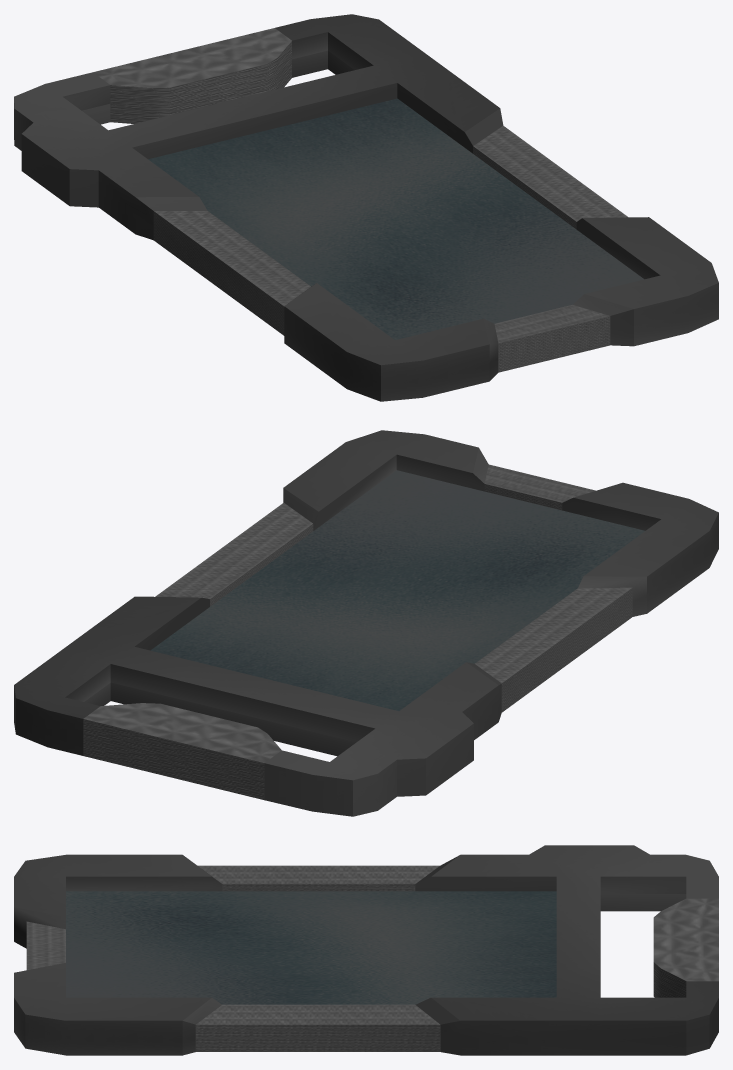
Rendered from Tablet.fbx.
The picture shows the model from 3 angles, top to bottom: view 1: azimuth 30°, elevation 25°; view 2: azimuth 150°, elevation 25°; view 3: azimuth 270°, elevation 25°; orthographic projection. The views are drawn at different scales.
Parts seen in each view (by area): view 1: Cube; view 2: Cube; view 3: Cube.
Boxes of the visible parts, <box> form: Cube: <box>14,14,718,401</box>; Cube: <box>14,430,718,816</box>; Cube: <box>14,845,718,1055</box>.
Size of the model in its own units: 211 by 19.49 by 359.
1 material, 1 textured.
